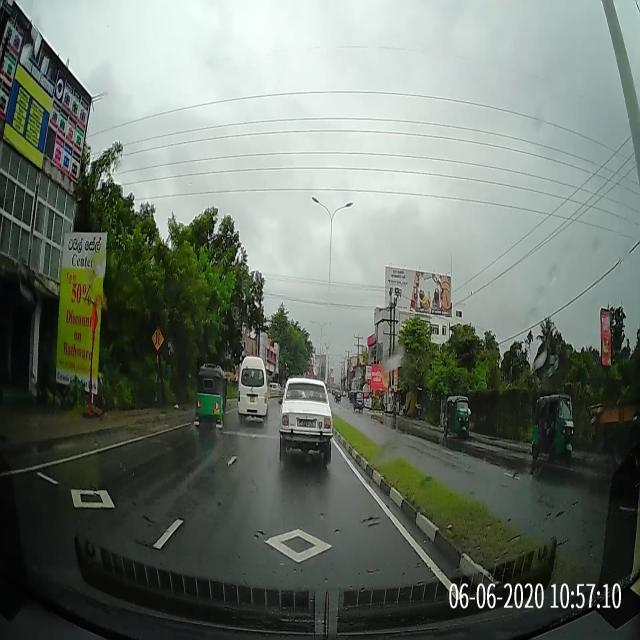diamond: (156, 505, 447, 582)
